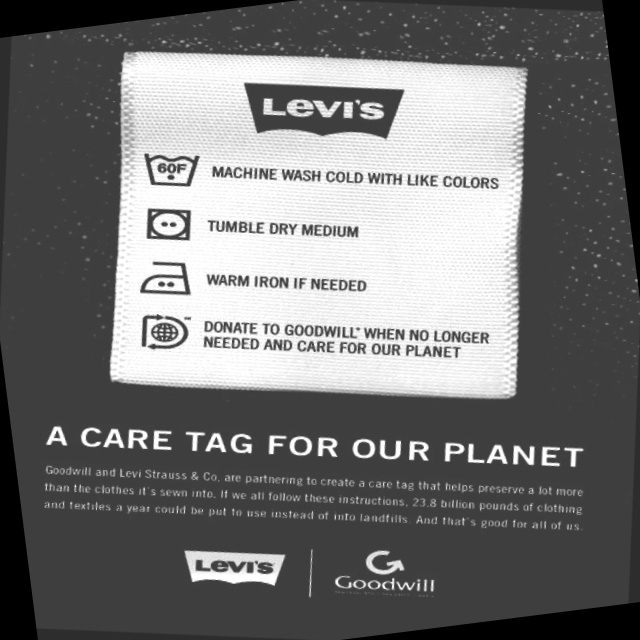30C: (136, 137, 209, 199)
iron_medium: (132, 248, 202, 308)
tumble_dry_medium: (136, 199, 201, 252)
